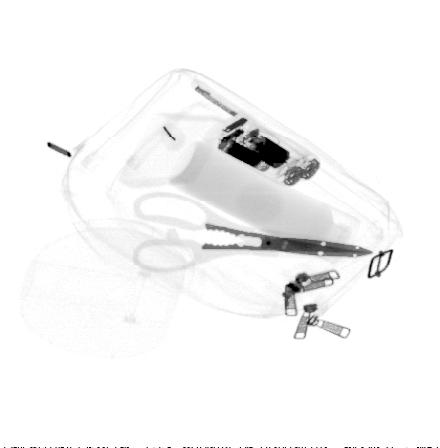Scissors: (129, 187, 375, 273)
